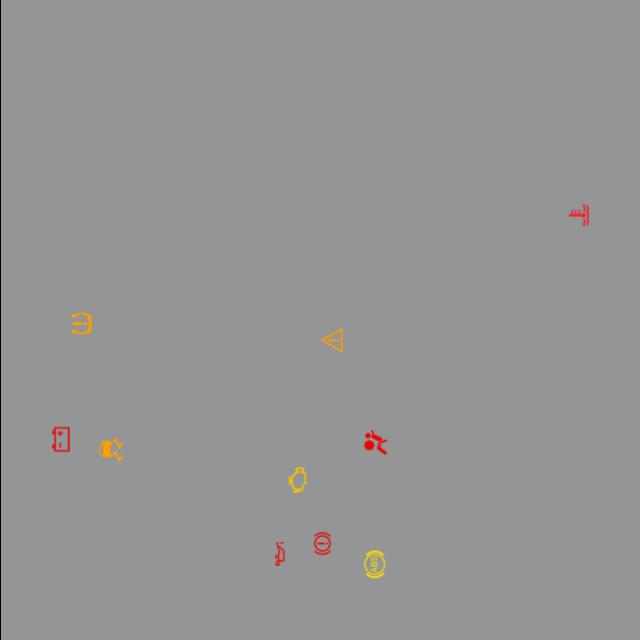Anti Lock Braking System: (358, 550, 388, 580)
Braking System Issue: (306, 528, 336, 558)
Charging System Issue: (45, 424, 75, 454)
Check Engine: (282, 465, 312, 495)
Electronic Stability Problem -ESP-: (95, 435, 125, 465)
Engine Overheating Warning Light: (563, 200, 593, 230)
Low Engine Oil Warning Light: (264, 539, 294, 569)
Low Tire Pressure Warning Light: (66, 308, 96, 338)
Master warning light: (316, 326, 346, 356)
SRS-Airbag: (360, 428, 390, 458)
